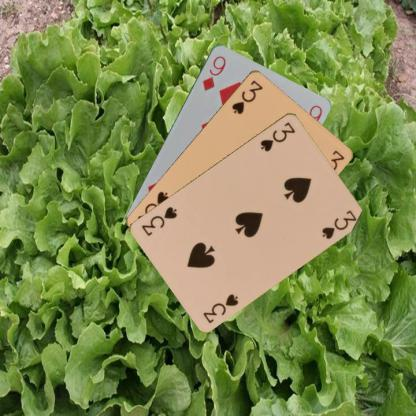3s: (200, 290, 240, 324), (229, 77, 264, 115), (258, 118, 296, 152)
9d: (199, 52, 228, 92)
